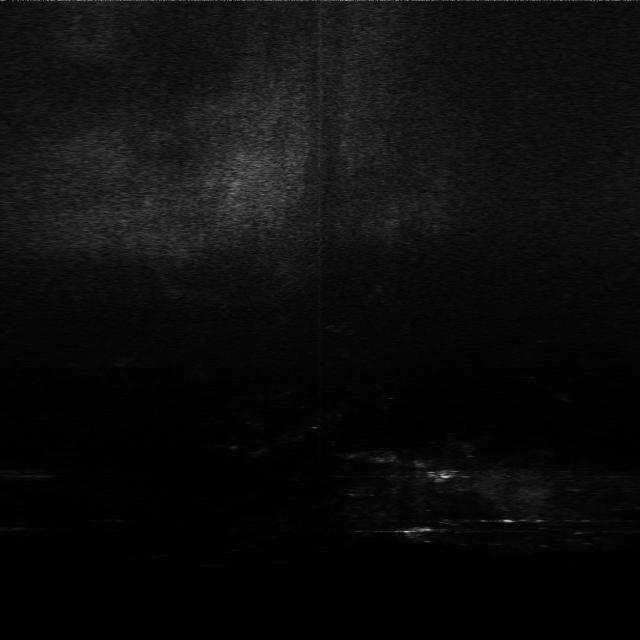rov: (428, 465, 462, 484)
